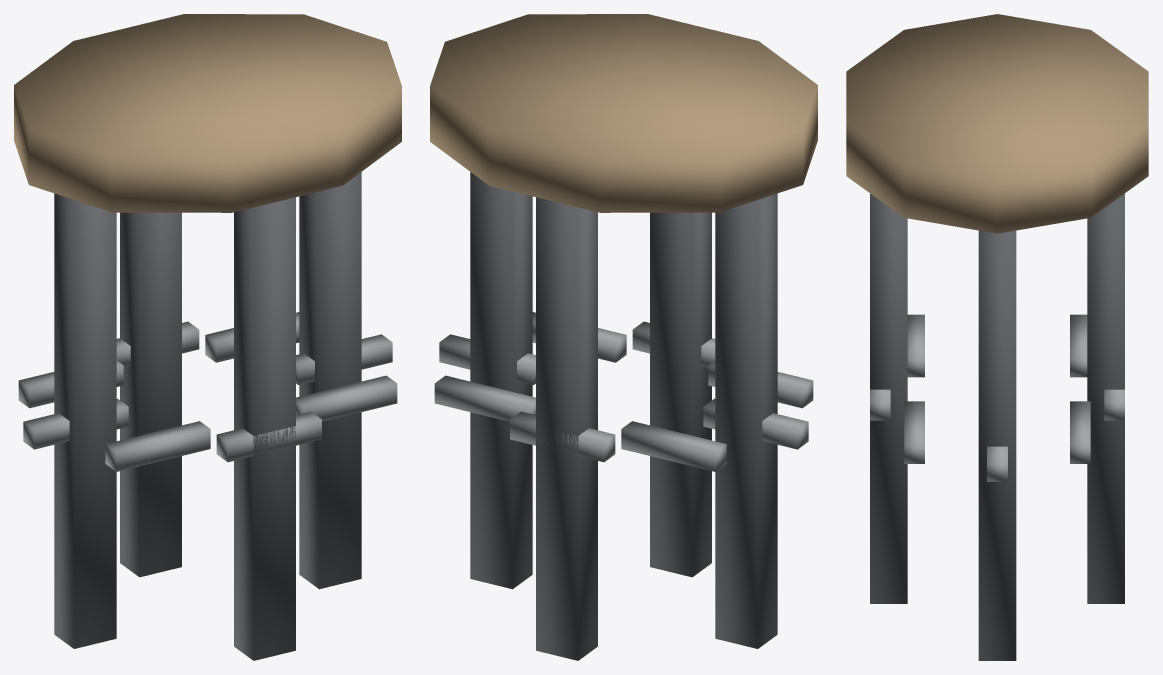
File: counter_stool__wide.glb
3 renders of one model, left to right at view 1: azimuth 30°, elevation 25°; view 2: azimuth 150°, elevation 25°; view 3: azimuth 270°, elevation 25°, orthographic. The views are drawn at different scales.
Visible parts, largest first — view 1: world; view 2: world; view 3: world.
Part boxes in pixels (x1,y1,x2,y2): world: [14, 14, 401, 660]; world: [430, 14, 817, 660]; world: [846, 14, 1148, 660].
Size of the model in its own units: 0.4712 by 0.655 by 0.3614.
